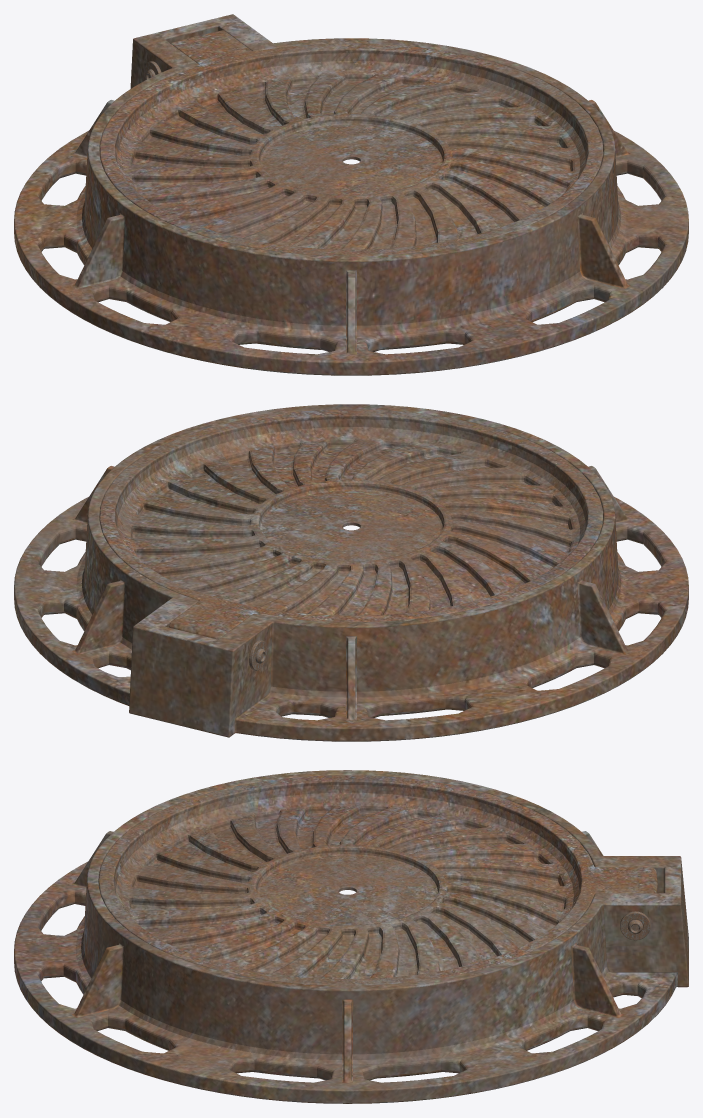
File: hatch.obj
The picture shows the model from 3 angles, top to bottom: view 1: azimuth 30°, elevation 25°; view 2: azimuth 150°, elevation 25°; view 3: azimuth 270°, elevation 25°; orthographic projection.
Parts seen in each view (by area): view 1: lyk_osnova, Kryshka_luka; view 2: lyk_osnova, Kryshka_luka; view 3: lyk_osnova, Kryshka_luka, shajba2.
Boxes of the visible parts, box(x1,y1,x2,y2) form: lyk_osnova: box(14, 14, 688, 375); Kryshka_luka: box(99, 30, 603, 256); lyk_osnova: box(14, 404, 688, 741); Kryshka_luka: box(99, 409, 603, 639); lyk_osnova: box(14, 770, 688, 1103); Kryshka_luka: box(98, 775, 657, 985); shajba2: box(620, 911, 650, 940).
Bounding box in the file's own units: 870 × 120 × 880.
